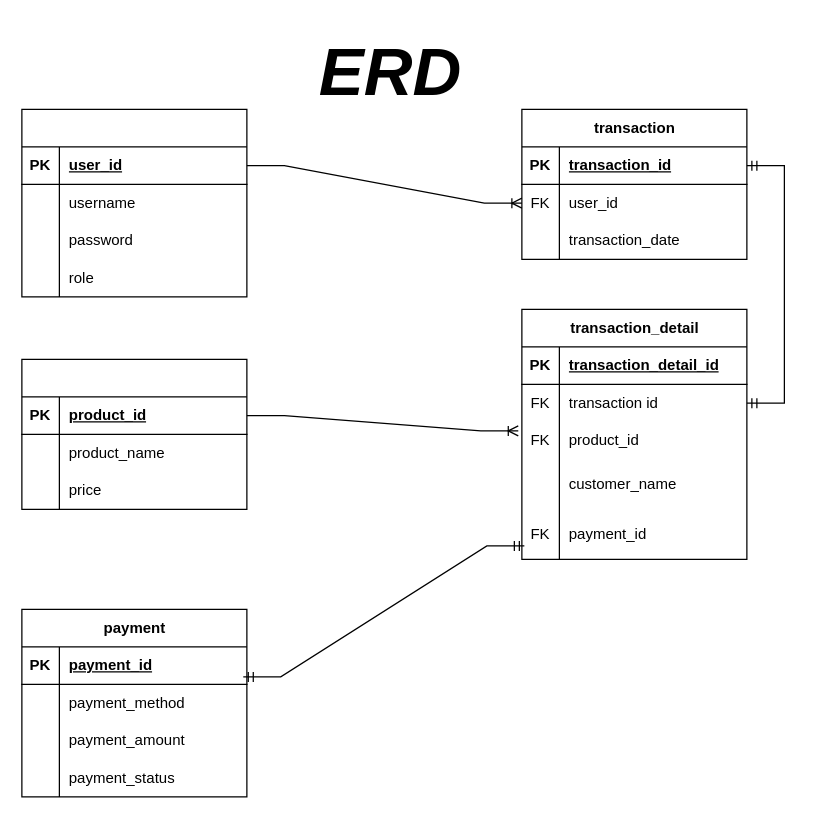
This 818x819 diagram has some shape labels left out. Here are the shapes that lost their labels. From the top down, the box of each, then its label:
(21, 108, 247, 297): users
(21, 358, 247, 509): products
